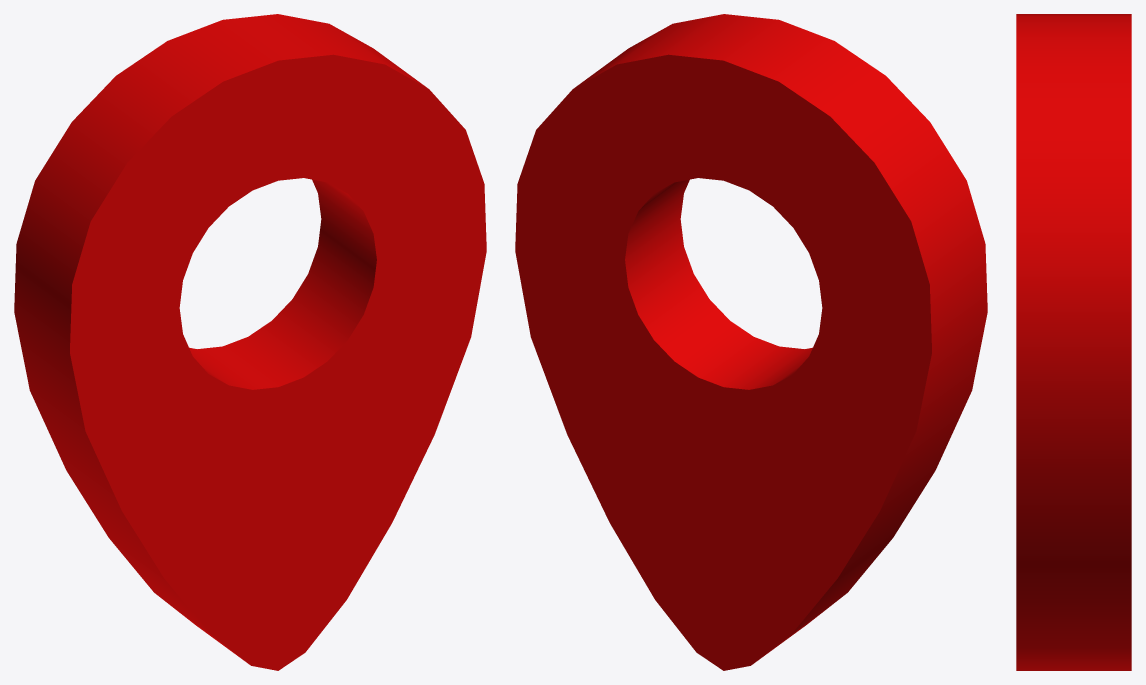
Rendered from MapPin.FBX.
3 views of the same model, side by side, from view 1: azimuth 30°, elevation 25°; view 2: azimuth 150°, elevation 25°; view 3: azimuth 270°, elevation 25° (orthographic). The views are drawn at different scales.
Parts seen in each view (by area): view 1: MapPin; view 2: MapPin; view 3: MapPin.
Part boxes in pixels (<box>): MapPin: <box>14,14,486,670</box>; MapPin: <box>515,14,987,670</box>; MapPin: <box>1016,14,1131,670</box>.
Size of the model in its own units: 60.55 by 84.7 by 14.
